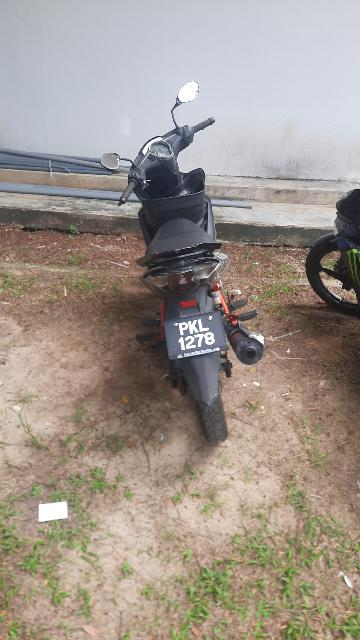License_Plate: (156, 314, 245, 363)
motorcycle: (96, 75, 269, 452)
